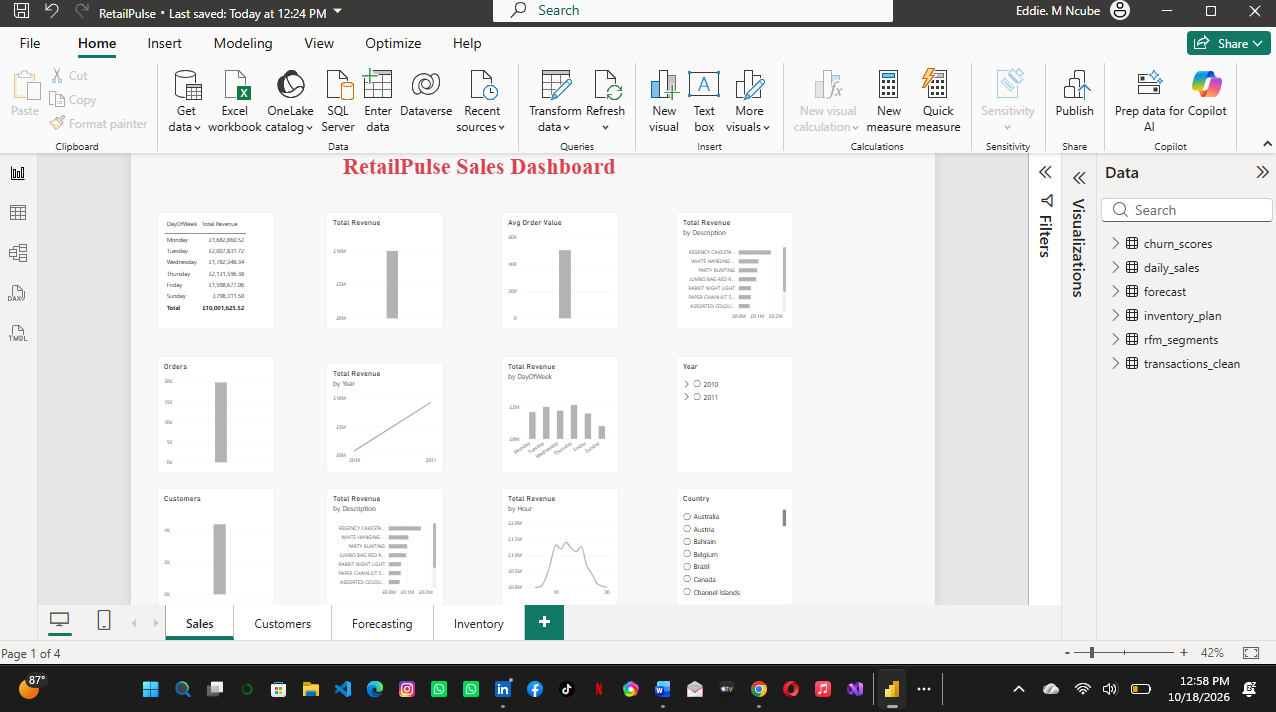

Layout of this report page (visuals, bound fields, positions):
{"tool":"powerbi","page":{"name":"Sales","canvas":[1920,1080],"ordinal":0},"visuals":[{"type":"tableEx","fields":{"Values":["transactions_clean.DayOfWeek","transactions_clean.Total Revenue"]},"box":[0,225,280,280],"z":0},{"type":"clusteredColumnChart","fields":{"Y":["transactions_clean.Total Revenue"]},"box":[300,240,280,280],"z":1000},{"type":"clusteredColumnChart","fields":{"Y":["transactions_clean.Orders"]},"box":[10,580,280,280],"z":2000},{"type":"clusteredColumnChart","fields":{"Y":["transactions_clean.Customers"]},"box":[10,870,280,210],"z":3000},{"type":"clusteredColumnChart","fields":{"Y":["transactions_clean.Avg Order Value"]},"box":[622.5,240,280,280],"z":4000},{"type":"lineChart","fields":{"Category":["transactions_clean.YearMonth.Variation.Date Hierarchy.Year","transactions_clean.YearMonth.Variation.Date Hierarchy.Quarter","transactions_clean.YearMonth.Variation.Date Hierarchy.Month","transactions_clean.YearMonth.Variation.Date Hierarchy.Day"],"Y":["transactions_clean.Total Revenue"]},"box":[300,520,280,280],"z":5000},{"type":"clusteredBarChart","fields":{"Category":["transactions_clean.Description"],"Y":["transactions_clean.Total Revenue"]},"box":[300,800,280,280],"z":6000},{"type":"clusteredBarChart","fields":{"Category":["transactions_clean.Description","transactions_clean.Country"],"Y":["transactions_clean.Total Revenue"]},"box":[915,225,280,280],"z":7000},{"type":"clusteredColumnChart","fields":{"Category":["transactions_clean.DayOfWeek"],"Y":["transactions_clean.Total Revenue"]},"box":[605,540,280,245],"z":8000},{"type":"lineChart","fields":{"Category":["transactions_clean.Hour"],"Y":["transactions_clean.Total Revenue"]},"box":[605,800,280,280],"z":10000},{"type":"listSlicer","fields":{"Values":["transactions_clean.Date.Variation.Date Hierarchy.Year","transactions_clean.Date.Variation.Date Hierarchy.Quarter","transactions_clean.Date.Variation.Date Hierarchy.Month","transactions_clean.Date.Variation.Date Hierarchy.Day"]},"box":[902.5,505,305,280],"z":10500},{"type":"listSlicer","fields":{"Values":["transactions_clean.Country"]},"box":[902.5,800,305,245],"z":10501},{"type":"textbox","box":[140,0,1382.5,70],"z":10502}]}

Visuals, with their boxes on the page's 1920x1080 design canvas (x1, y1, x2, y2). These are canvas units, not pixel positions in the 1276x712 screenshot, which may show the page scaled, cropped or inside an application window:
tableEx - transactions_clean.DayOfWeek x transactions_clean.Total Revenue: l=0, t=225, r=280, b=505
clusteredColumnChart - transactions_clean.Total Revenue: l=300, t=240, r=580, b=520
clusteredColumnChart - transactions_clean.Orders: l=10, t=580, r=290, b=860
clusteredColumnChart - transactions_clean.Customers: l=10, t=870, r=290, b=1080
clusteredColumnChart - transactions_clean.Avg Order Value: l=622, t=240, r=902, b=520
lineChart - transactions_clean.YearMonth.Variation.Date Hierarchy.Year x transactions_clean.YearMonth.Variation.Date Hierarchy.Quarter: l=300, t=520, r=580, b=800
clusteredBarChart - transactions_clean.Description x transactions_clean.Total Revenue: l=300, t=800, r=580, b=1080
clusteredBarChart - transactions_clean.Description x transactions_clean.Country: l=915, t=225, r=1195, b=505
clusteredColumnChart - transactions_clean.DayOfWeek x transactions_clean.Total Revenue: l=605, t=540, r=885, b=785
lineChart - transactions_clean.Hour x transactions_clean.Total Revenue: l=605, t=800, r=885, b=1080
listSlicer - transactions_clean.Date.Variation.Date Hierarchy.Year x transactions_clean.Date.Variation.Date Hierarchy.Quarter: l=902, t=505, r=1208, b=785
listSlicer - transactions_clean.Country: l=902, t=800, r=1208, b=1045
textbox: l=140, t=0, r=1522, b=70
